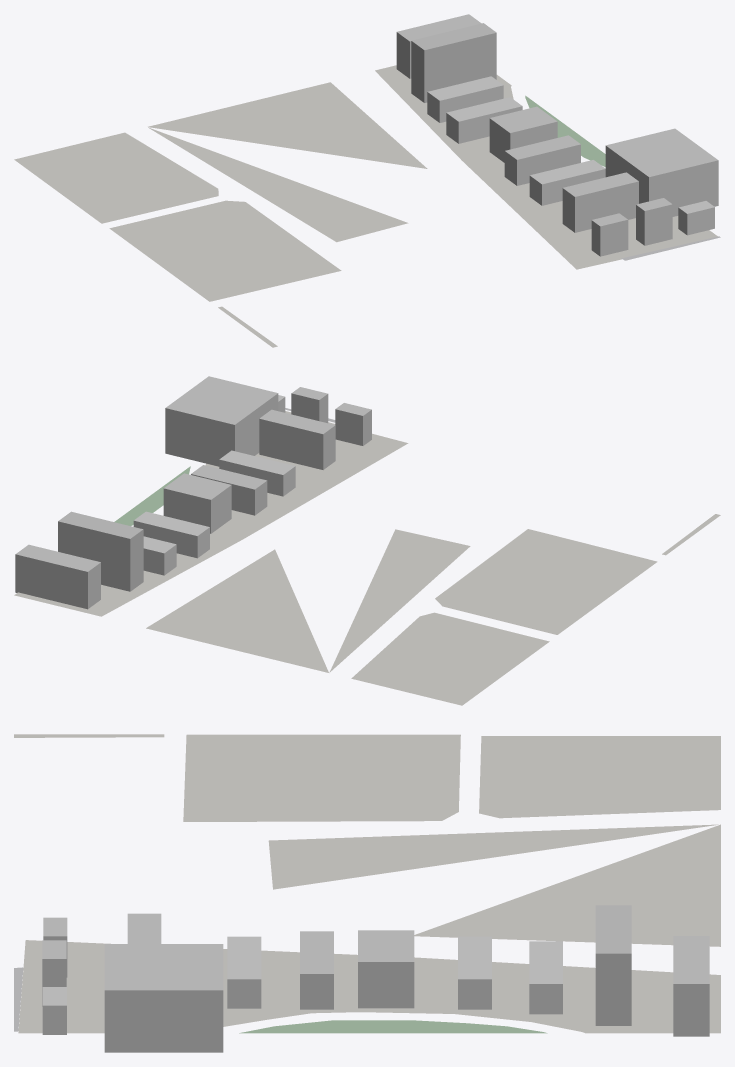
Rendered from 103_102_mid.glb.
The picture shows the model from 3 angles, top to bottom: view 1: azimuth 30°, elevation 25°; view 2: azimuth 150°, elevation 25°; view 3: azimuth 270°, elevation 25°; orthographic projection. The views are drawn at different scales.
Size of the model in its own units: 534 by 57.46 by 500.
